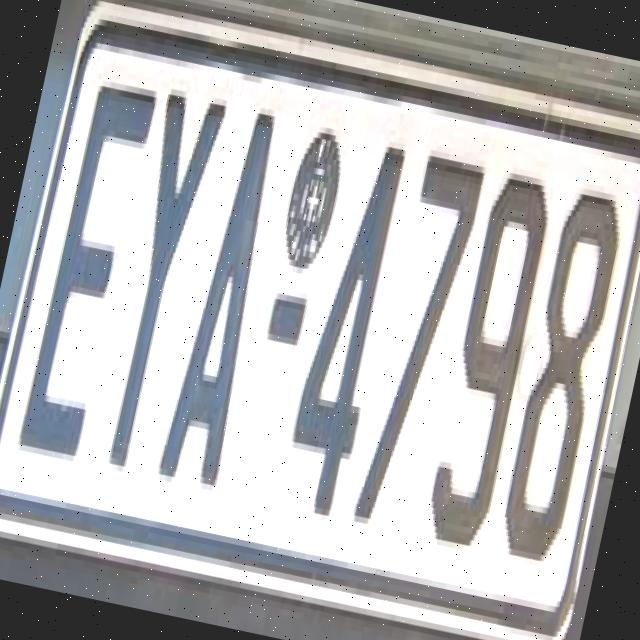Autre: (0, 19, 640, 631)
